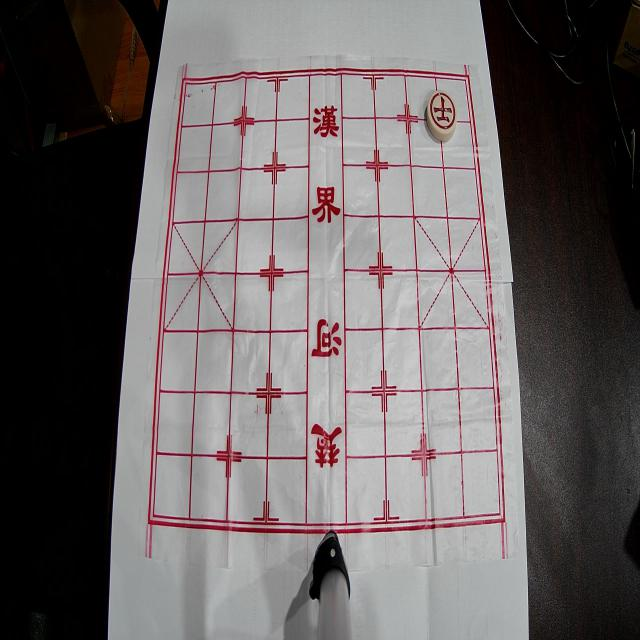red-guard: (427, 90, 457, 142)
